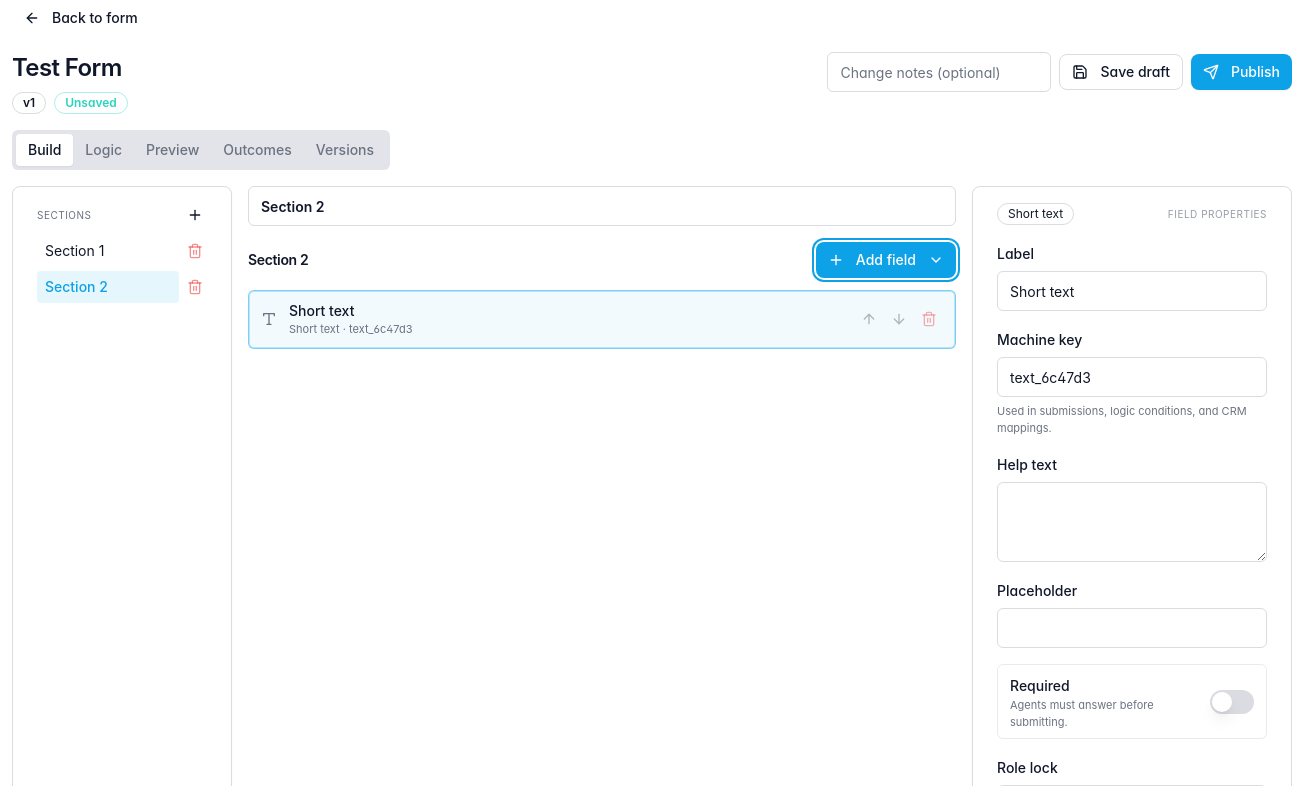
Test: WorkspaceFormBuilderPage — smoke › adds a section, 3 field types, and previews them via FormRunner
The image size is (1304, 786).
Earlier steps of the test are not shown.
Click the button with test id "add-field-trigger" at x=886, y=260, box [816,242,956,278]
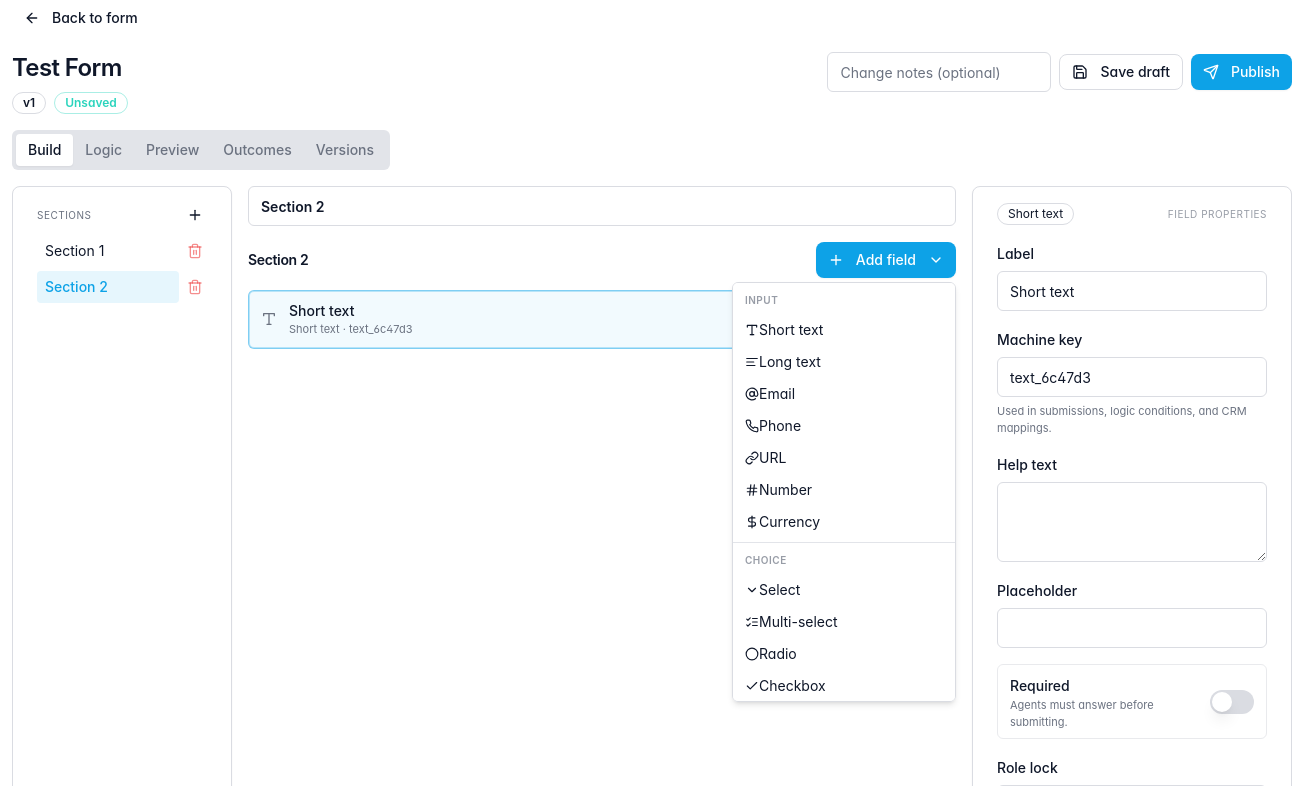
Click the menu item "Email" at x=770, y=394, box [745,385,795,402]
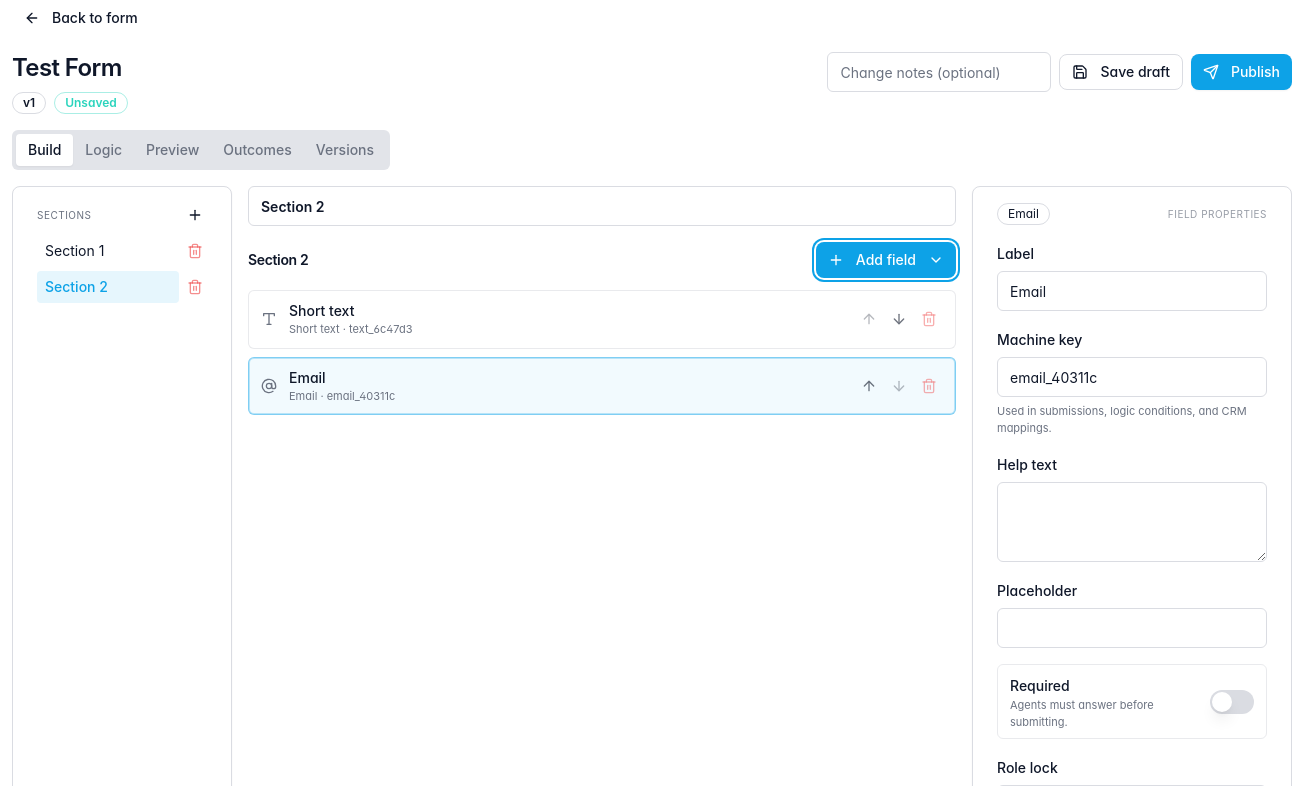
Click the button with test id "add-field-trigger" at x=886, y=260, box [816,242,956,278]
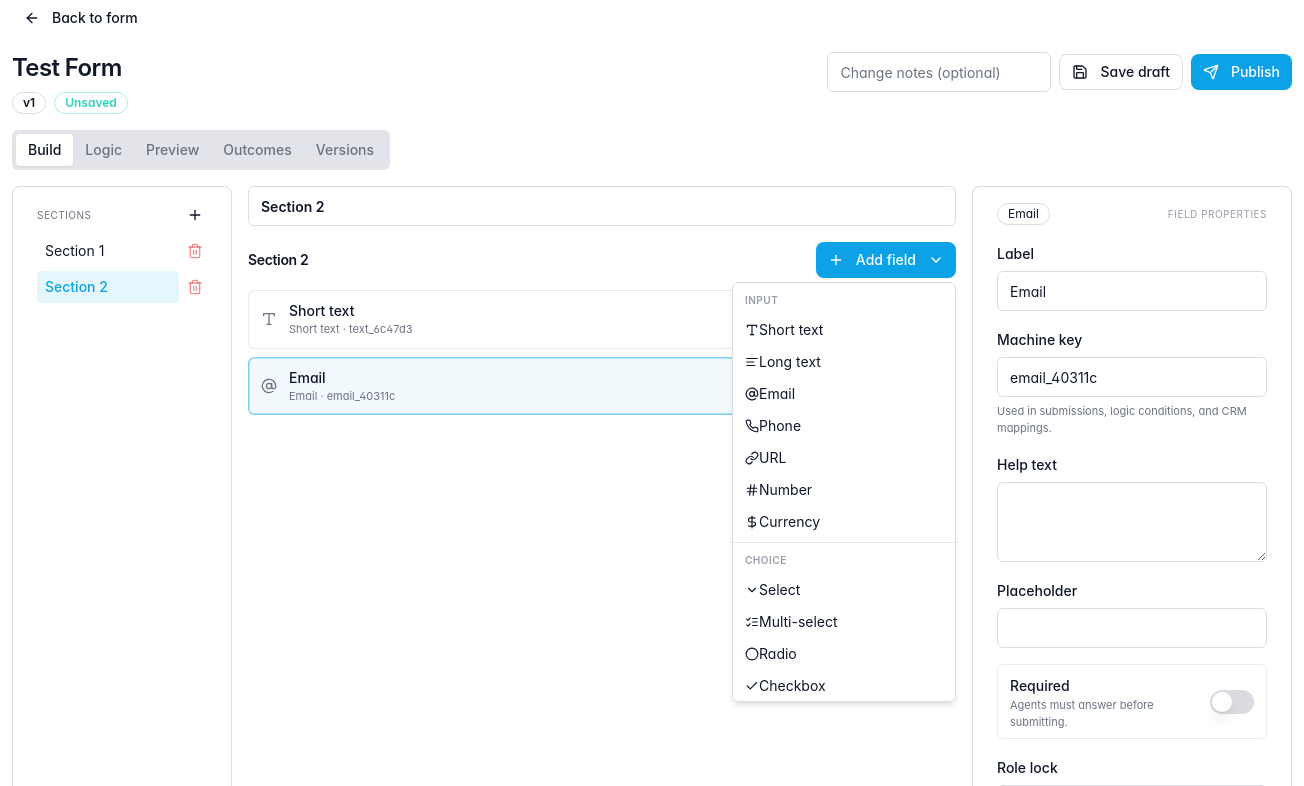
Click the menu item "Select" at x=773, y=590, box [745,581,800,598]
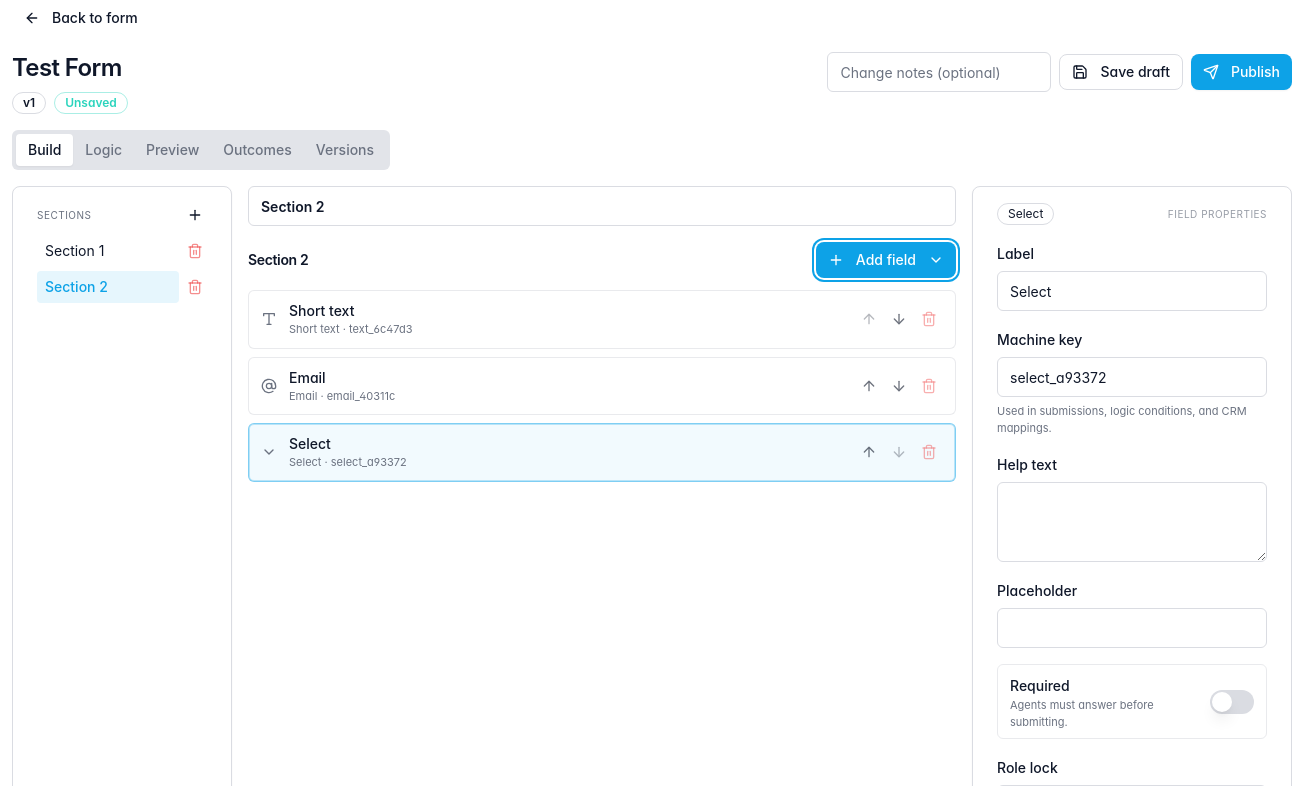
Click the tab with test id "tab-preview" at x=173, y=150, box [134,134,211,166]
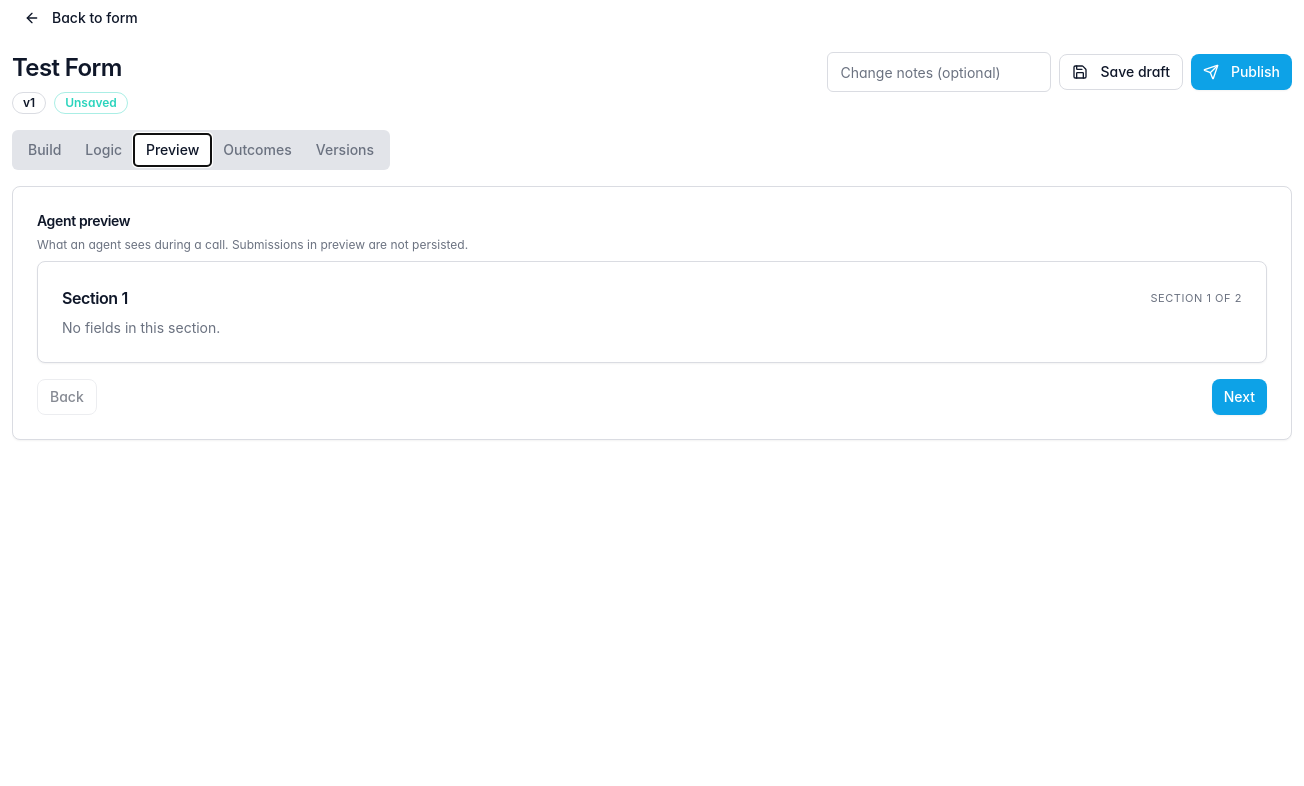
Click the button "Next" at x=1239, y=397, box [1212,379,1267,415]
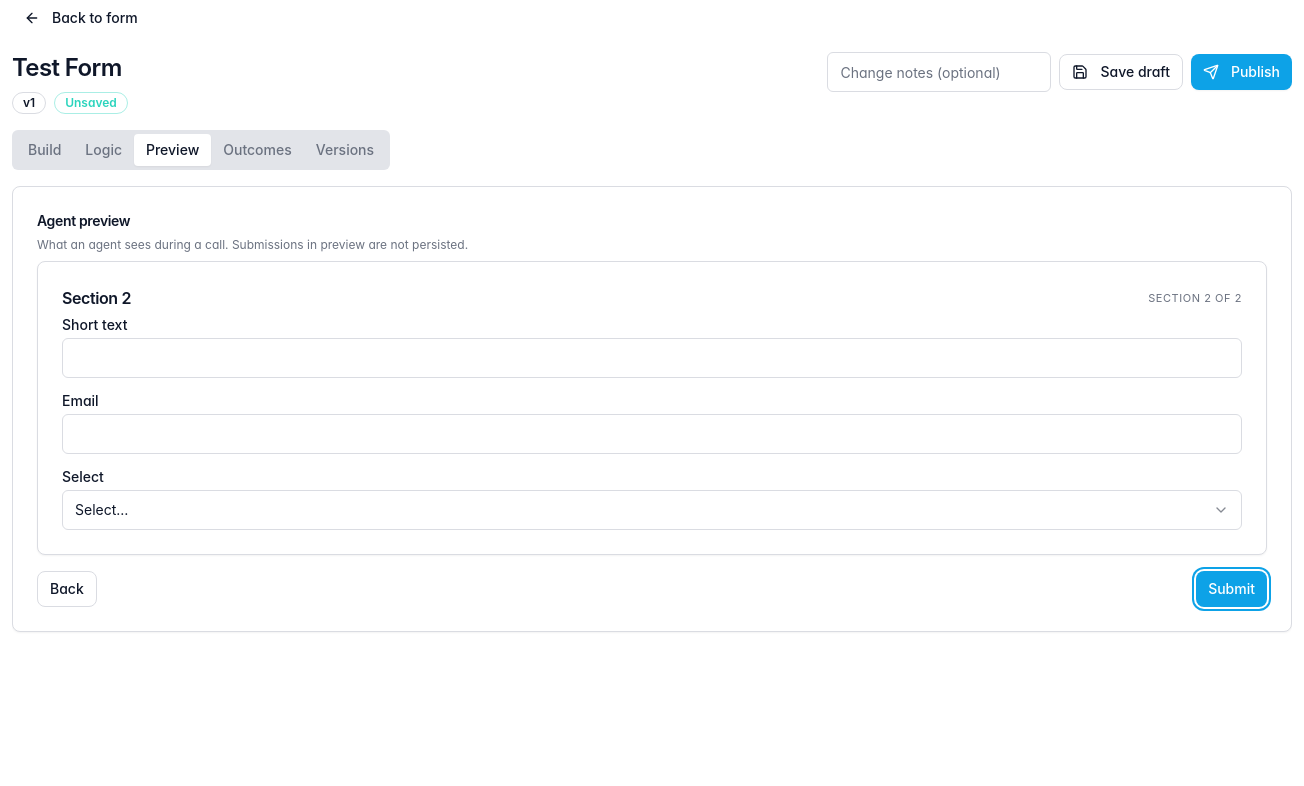
Expected: the element showing "Short text" is shown, [62,318,1242,378]
Expected: the element showing "Email" is shown, [62,394,1242,454]
Expected: the element showing "Select Select…" is shown, [62,470,1242,530]
